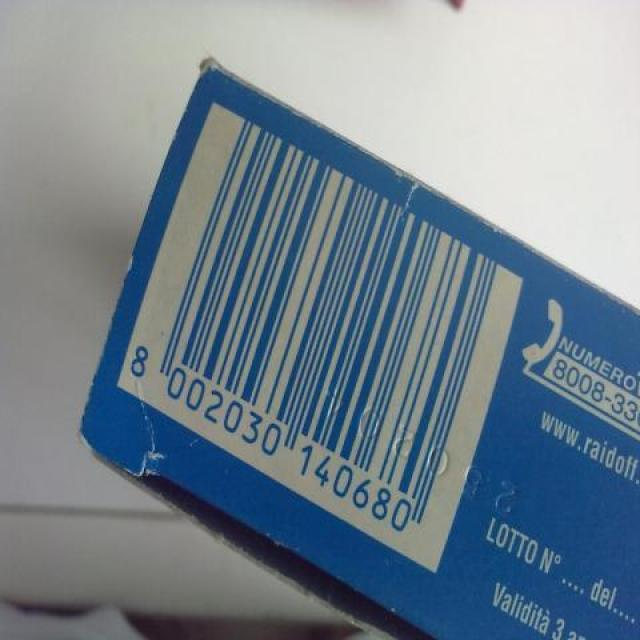Barcode: (114, 97, 526, 578)
